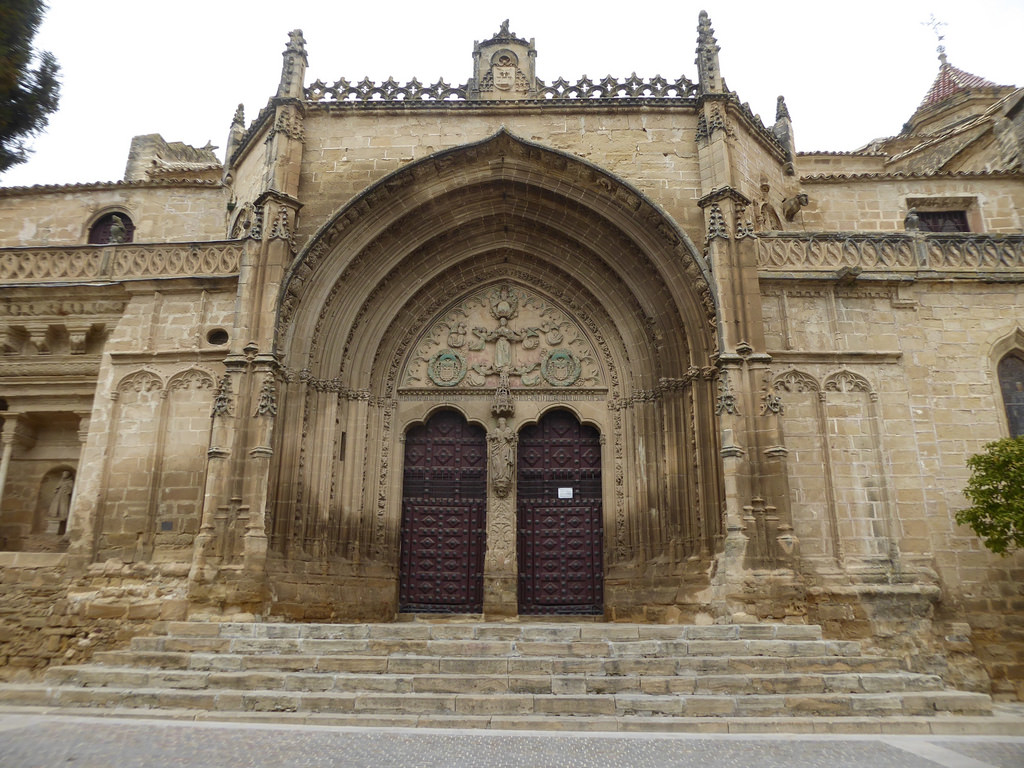arco-apuntado: (369, 170, 633, 382)
arco-conopial: (394, 119, 603, 167)
arco-trilobulado: (394, 398, 495, 445), (510, 399, 608, 446)
pinaculo-gotico: (688, 1, 723, 71)
